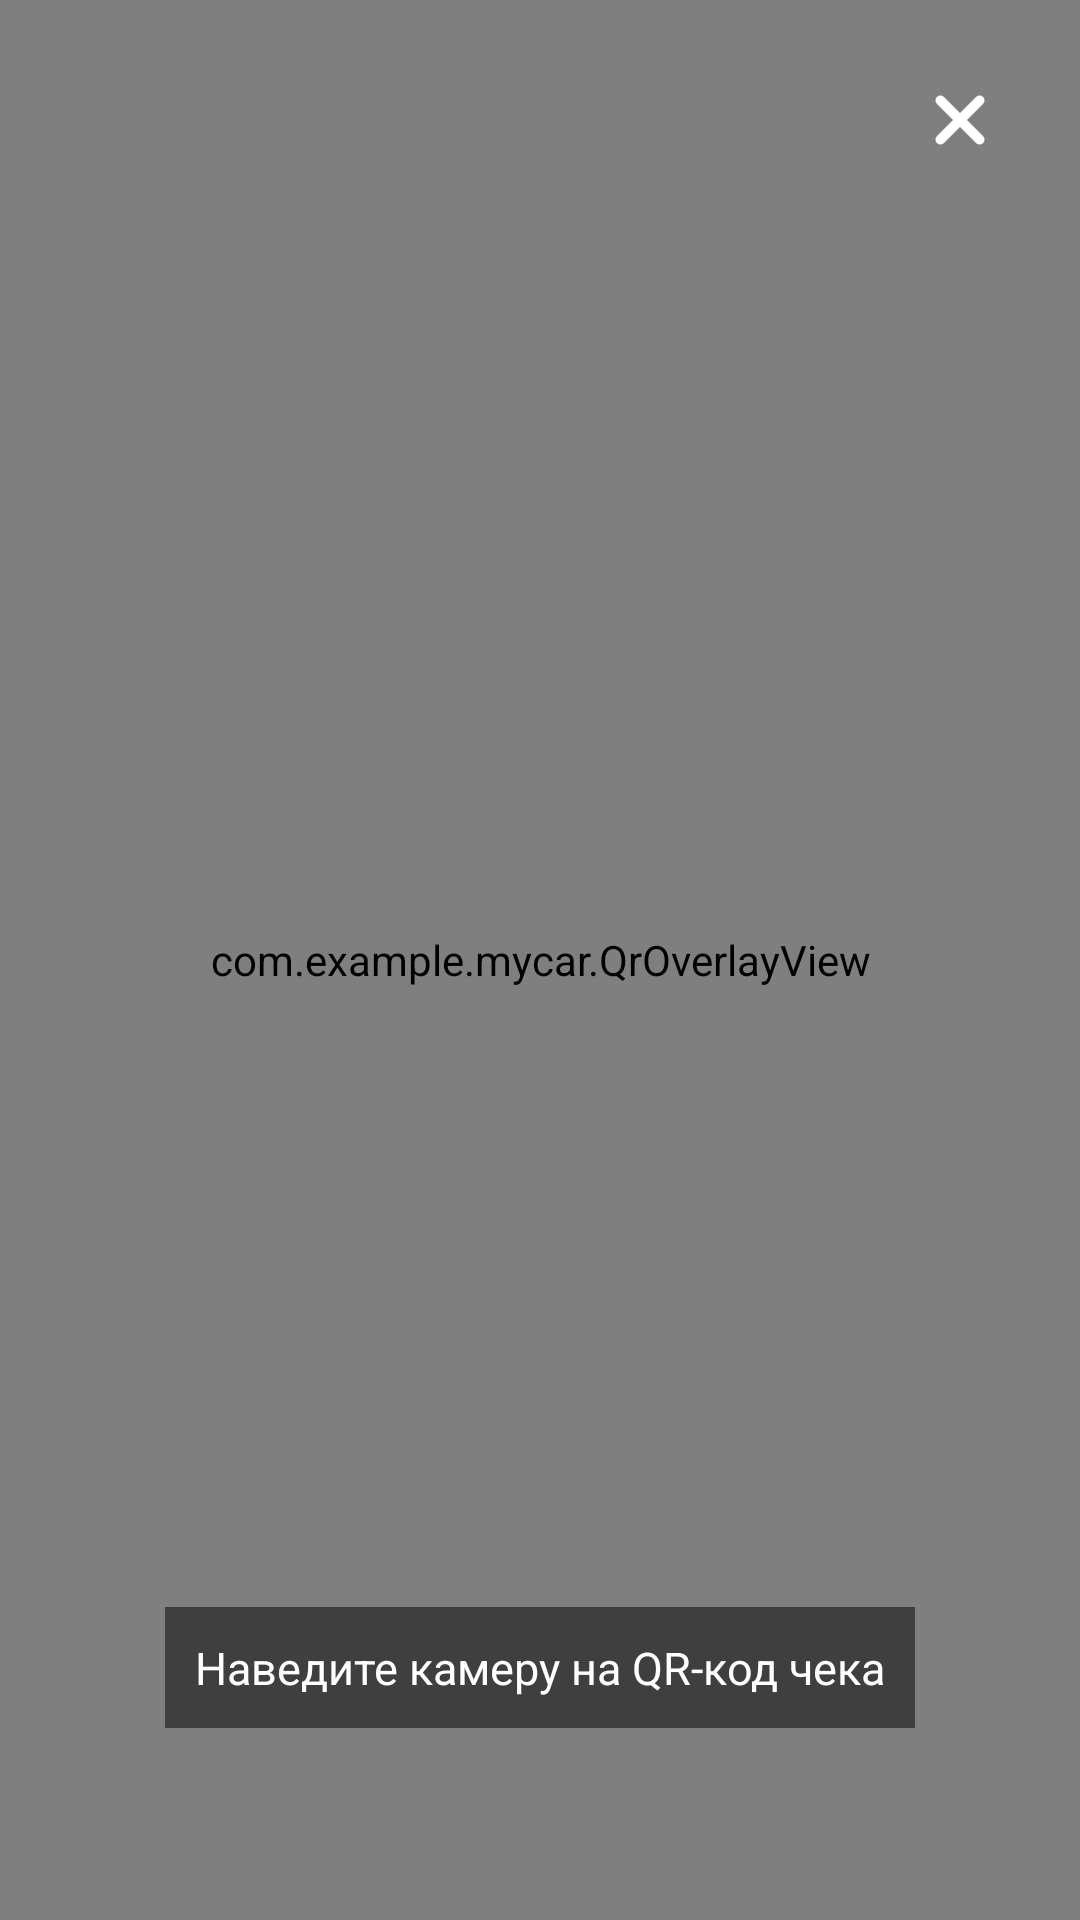

Point at icon controls on the screen. Image size 1080×1920, points as point (x, y).
cancel: point (960, 120)
